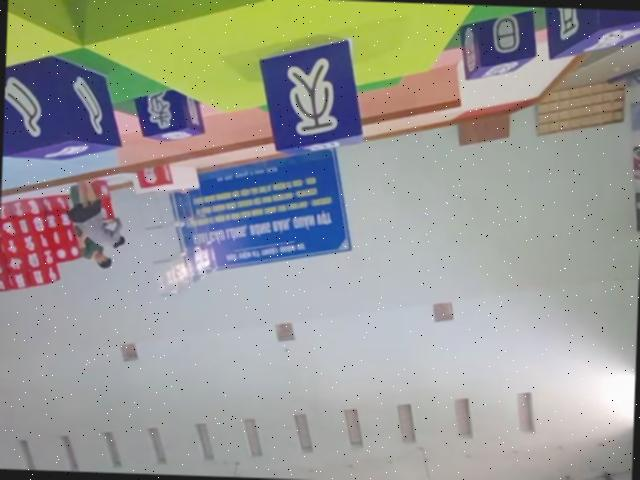R2 Fake Blue: (257, 35, 367, 158), (459, 7, 539, 82), (134, 87, 207, 143)
R2 Real Blue: (3, 55, 127, 163), (539, 7, 640, 63)
